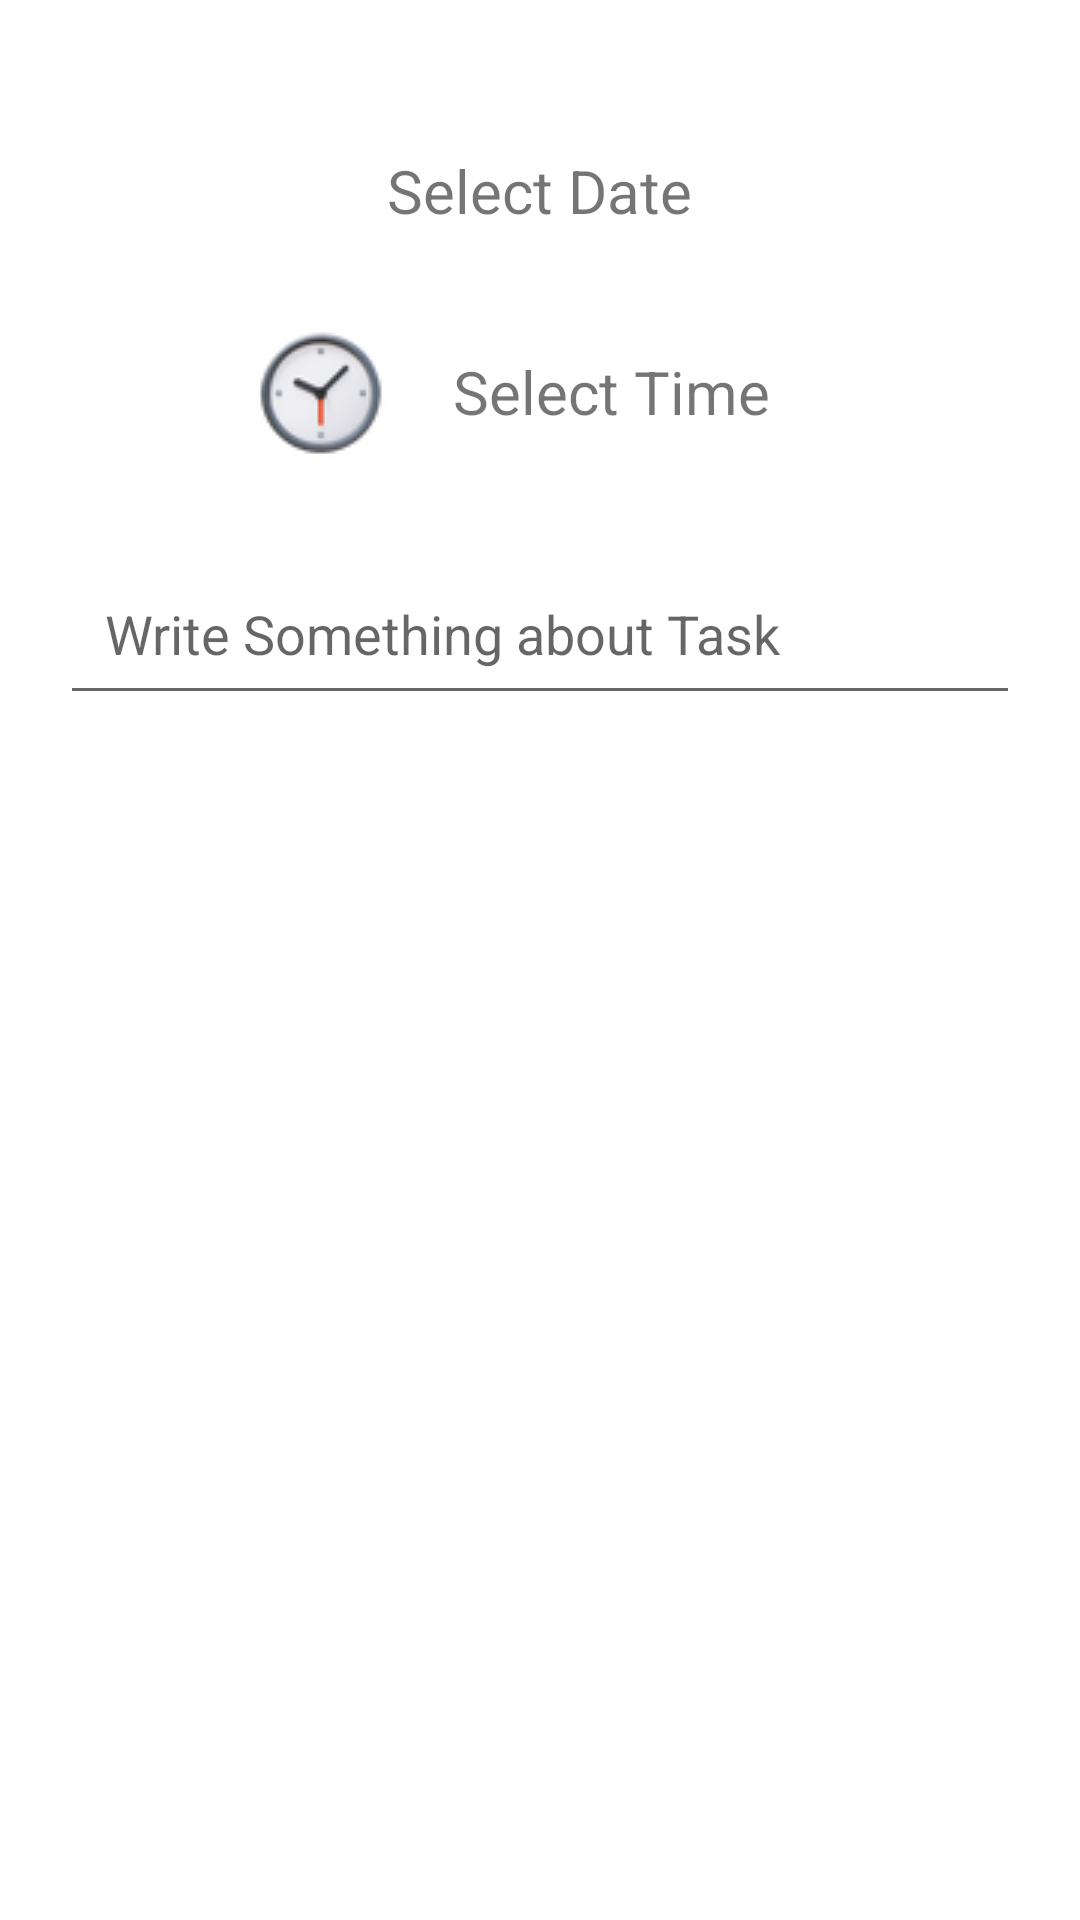

Named icons in this screenshot (1080w x 1920h) and their centers, (x,y):
time dialog: (321,393)
